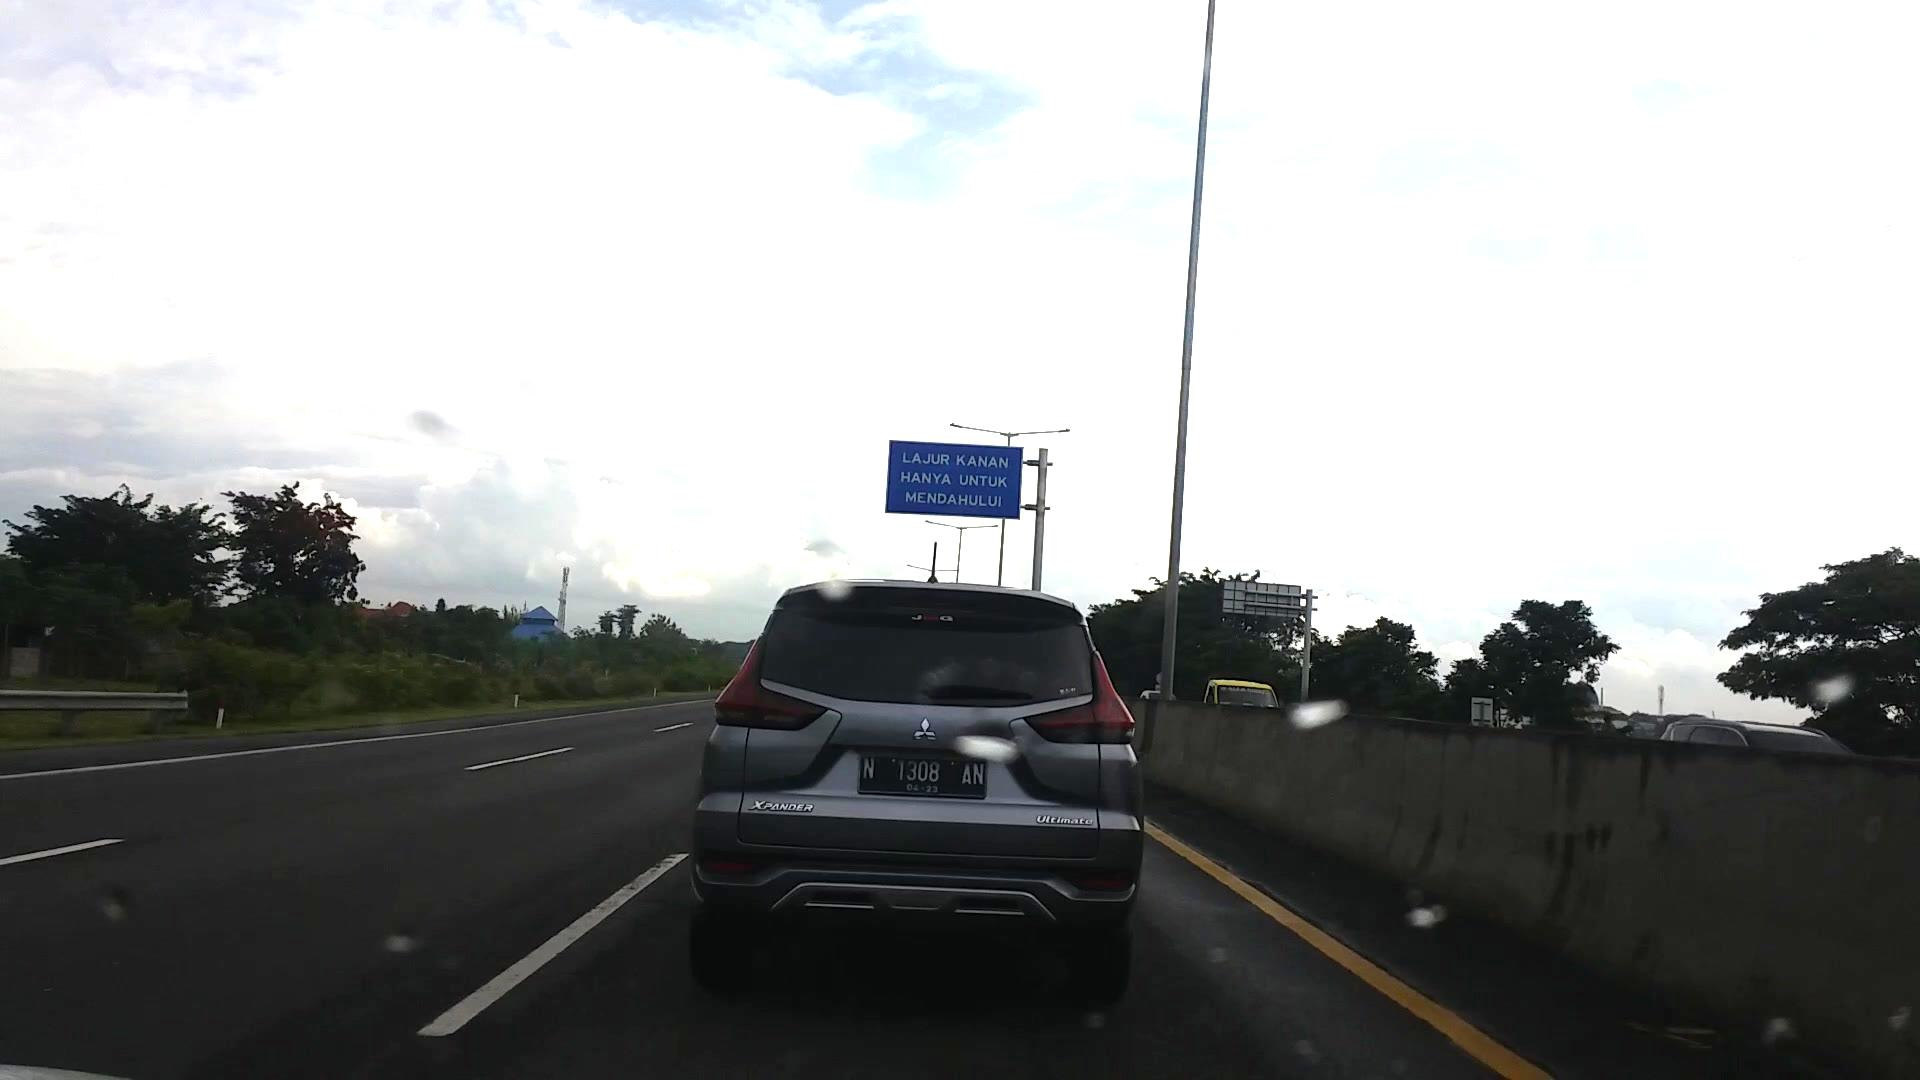plate_positive: (858, 756, 986, 800)
